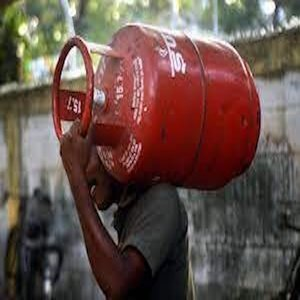combustible: (55, 26, 257, 184)
